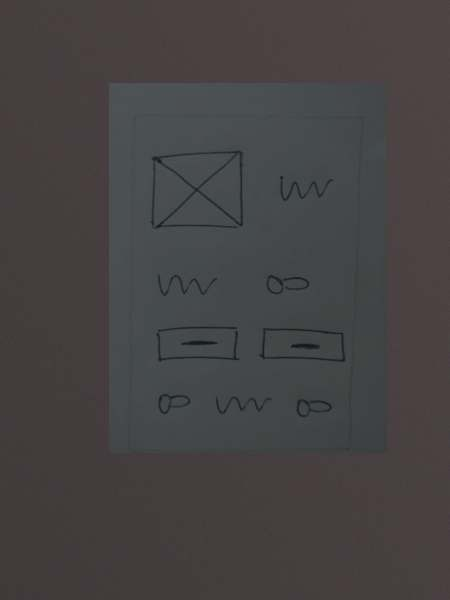button: (155, 320, 241, 368), (256, 322, 347, 367)
image: (148, 147, 248, 237)
switch: (284, 388, 339, 425), (149, 385, 204, 422), (260, 266, 315, 302)
text: (152, 267, 222, 304), (273, 169, 336, 207), (209, 389, 274, 422)
